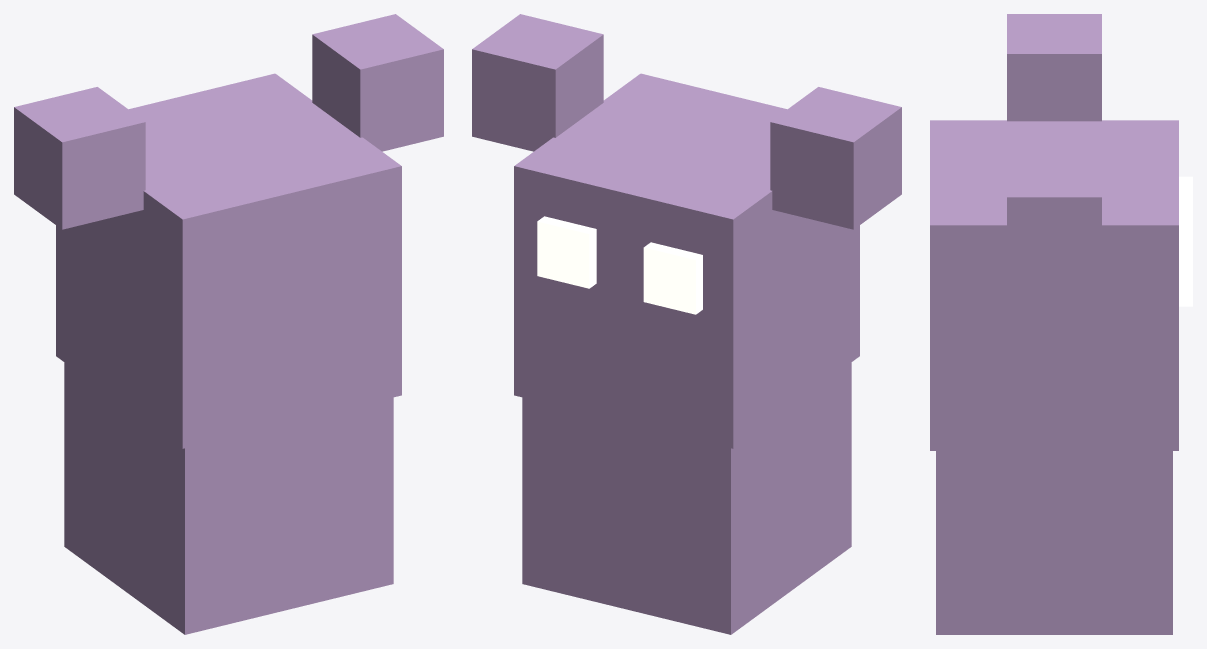
The model's file is ember_mob_imp_00.glb.
3 views of the same model, side by side, from view 1: azimuth 30°, elevation 25°; view 2: azimuth 150°, elevation 25°; view 3: azimuth 270°, elevation 25° (orthographic).
Visible parts, largest first — view 1: ember_mob_imp_00; view 2: ember_mob_imp_00; view 3: ember_mob_imp_00.
Part boxes in pixels (box(x1,y1,x2,y2)): ember_mob_imp_00: box(14, 14, 443, 634); ember_mob_imp_00: box(472, 14, 901, 634); ember_mob_imp_00: box(930, 14, 1192, 634).
Bounding box in the file's own units: 0.7168 × 0.8744 × 0.4348.
